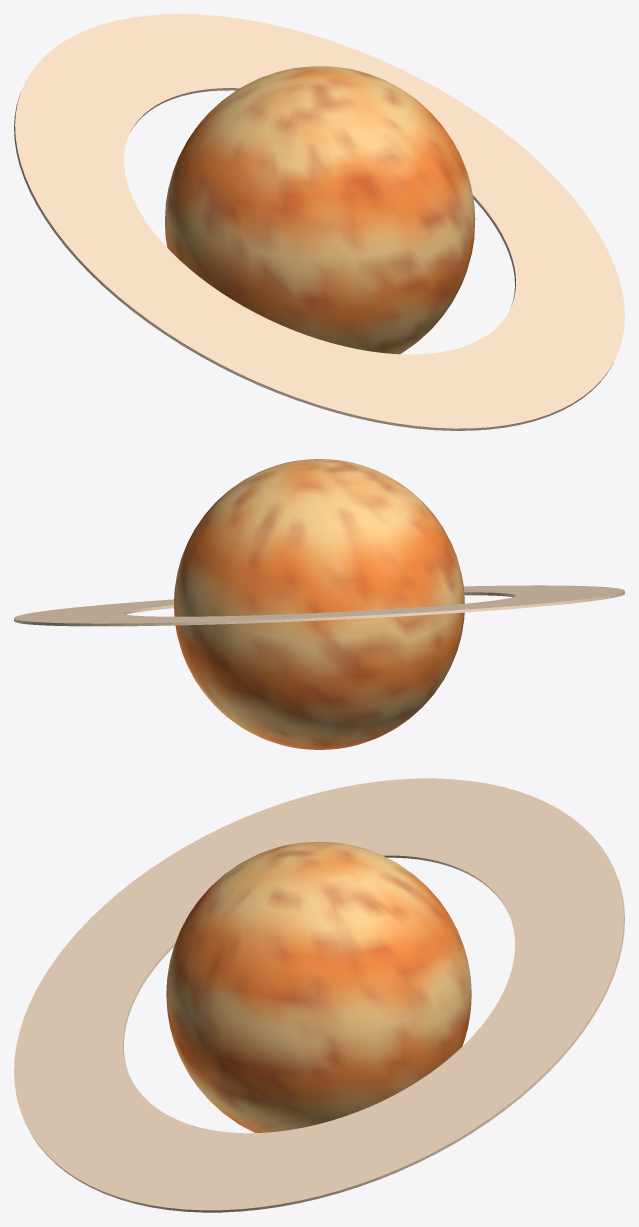
File: planet_now.glb
3 views of the same model, one above another, from view 1: azimuth 30°, elevation 25°; view 2: azimuth 150°, elevation 25°; view 3: azimuth 270°, elevation 25° (orthographic). The views are drawn at different scales.
Visible parts, largest first — view 1: Ring, Surface; view 2: Surface, Ring; view 3: Ring, Surface.
Part boxes in pixels (bbox=[...]): Ring: bbox=[14, 14, 624, 430]; Surface: bbox=[165, 66, 475, 354]; Surface: bbox=[174, 459, 464, 749]; Ring: bbox=[14, 585, 624, 626]; Ring: bbox=[14, 778, 624, 1212]; Surface: bbox=[166, 841, 471, 1132].
Size of the model in its own units: 4.09 by 2 by 4.
